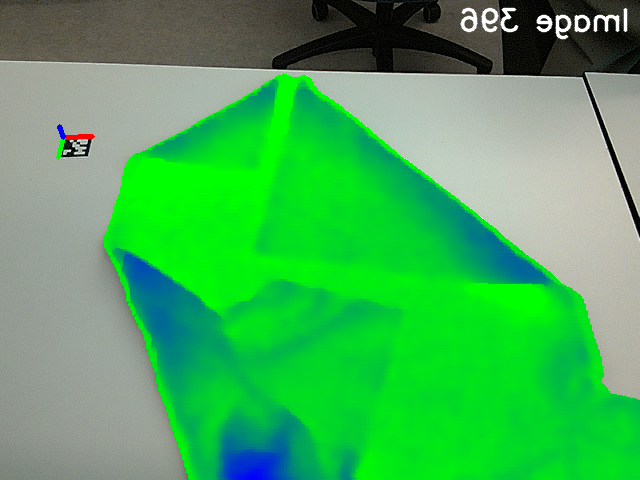V: (363, 288, 416, 348), (240, 215, 302, 265), (223, 125, 272, 177), (260, 270, 314, 316)
